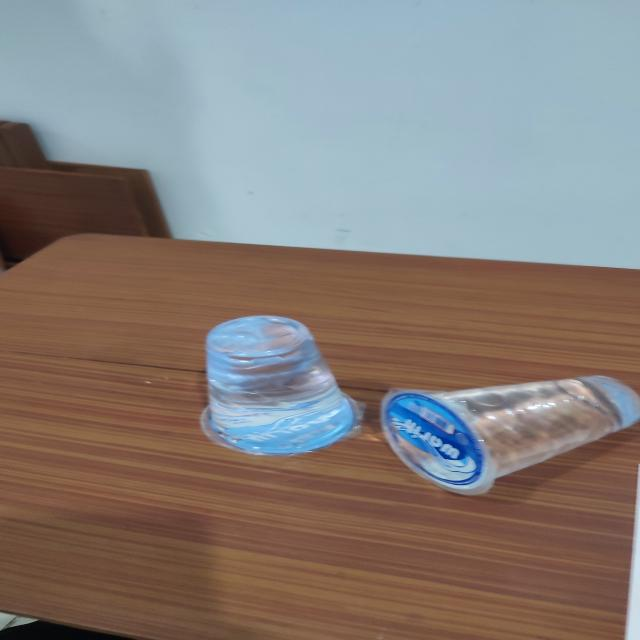air gelas: (378, 366, 640, 501), (190, 311, 359, 454)
